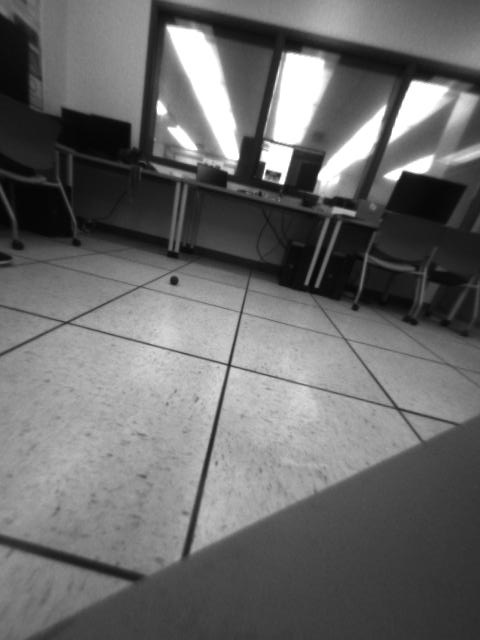dogtoy: (166, 267, 185, 293)
